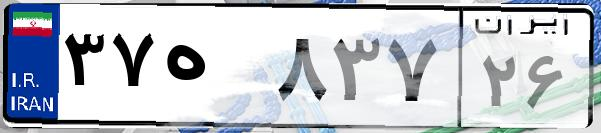2: (475, 38, 525, 113)
3: (330, 28, 385, 110), (57, 26, 110, 100)
6: (525, 38, 570, 115)
7: (385, 28, 445, 110), (110, 28, 158, 98)
8: (270, 28, 330, 110)
ه: (158, 20, 270, 120)
